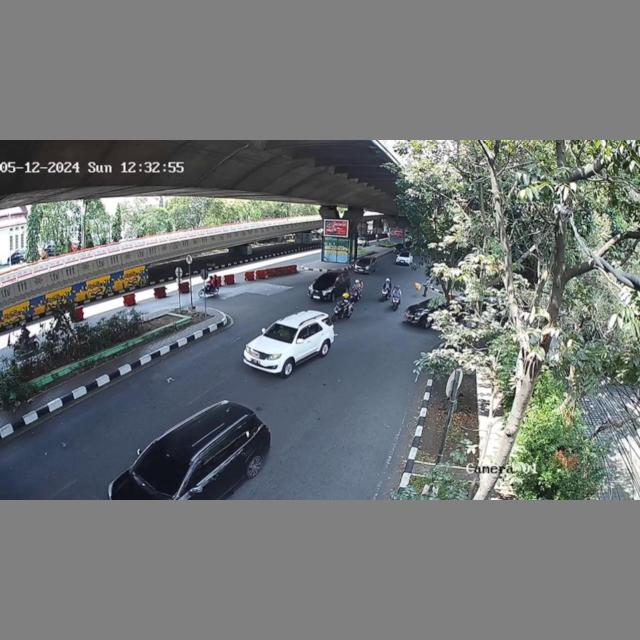windshield: (263, 322, 298, 344)
